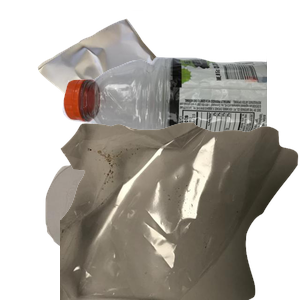glass: (43, 159, 187, 300)
paper: (35, 10, 237, 178)
plastic: (60, 53, 300, 201)
trash: (60, 120, 300, 300)
